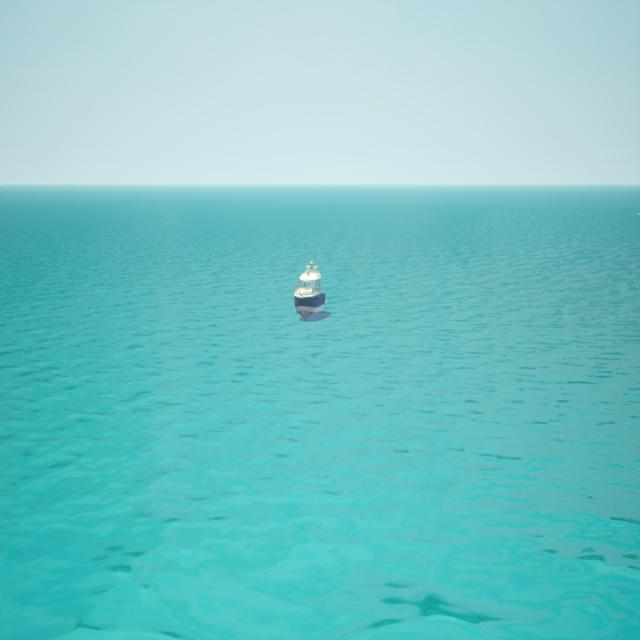ship: (295, 263, 326, 317)
